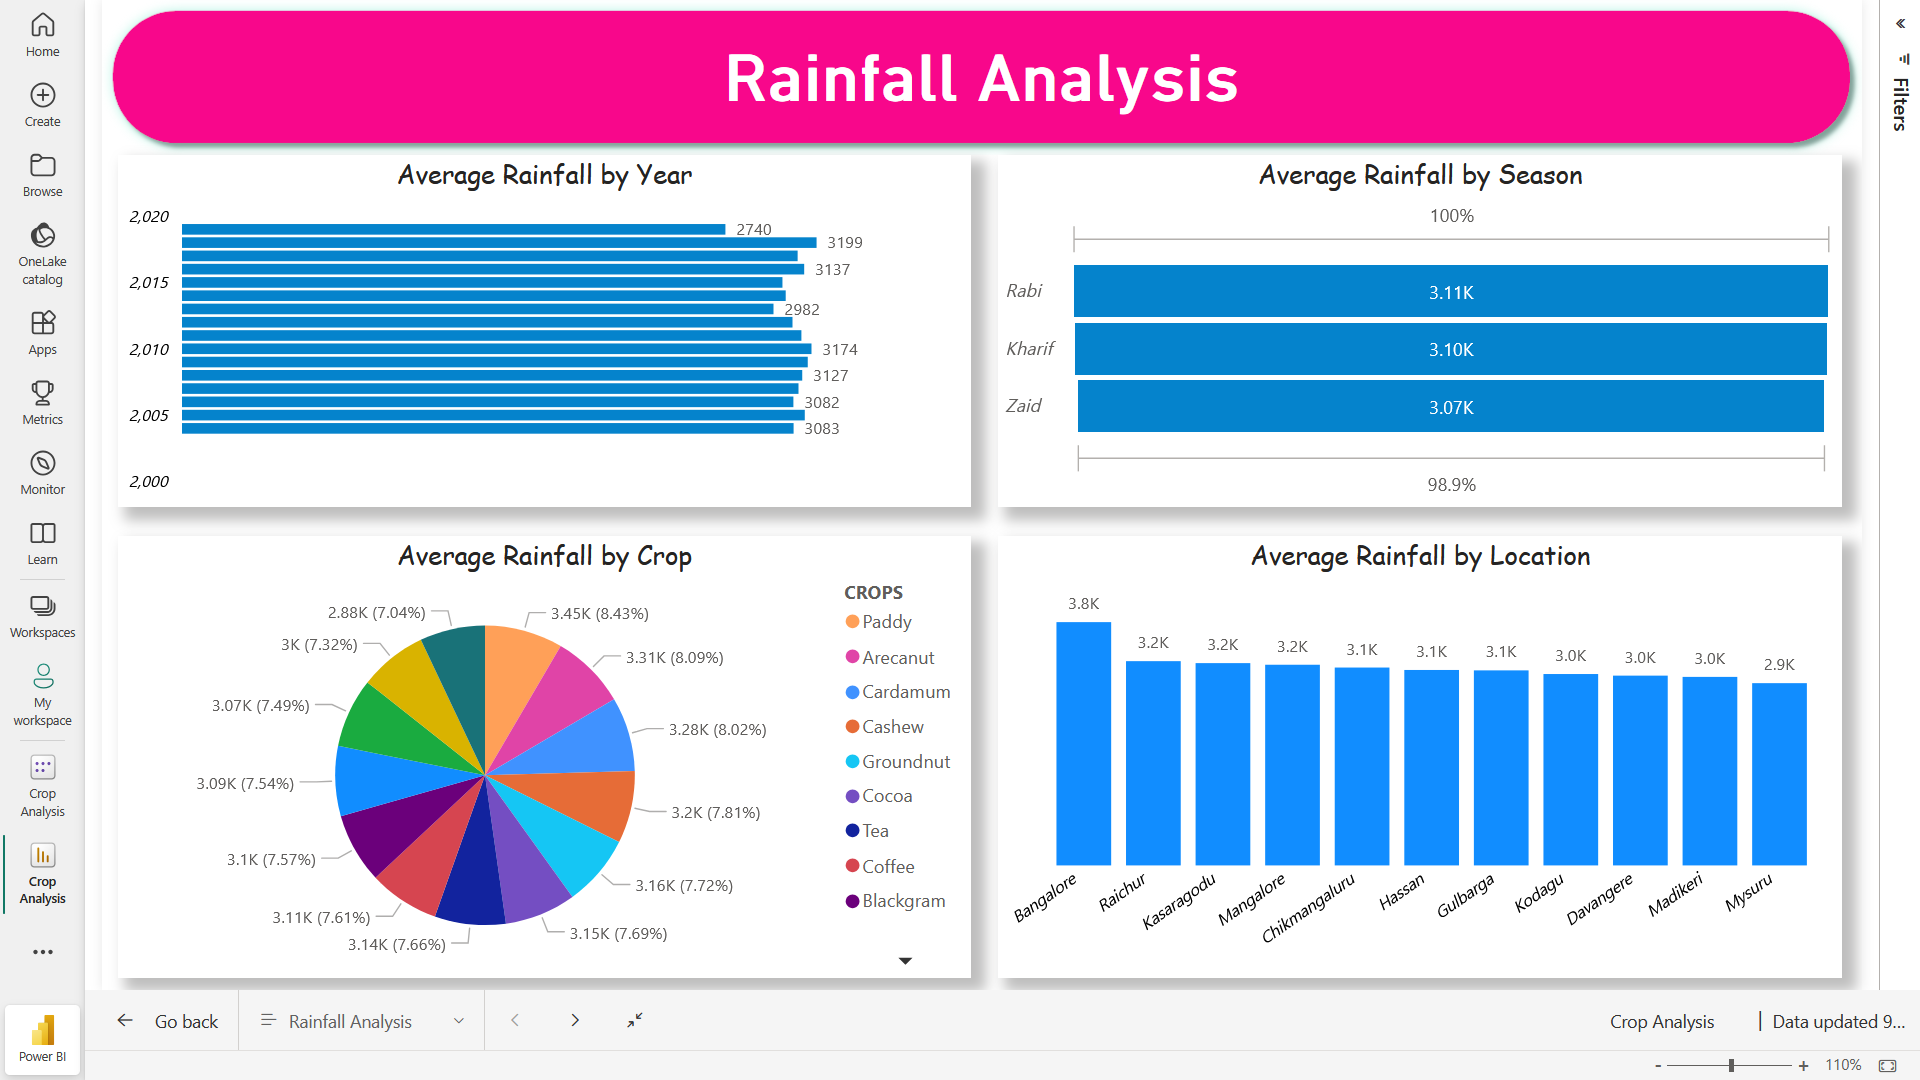

Layout of this report page (visuals, bound fields, positions):
{"tool":"powerbi","page":{"name":"Rainfall Analysis","canvas":[1280,720],"ordinal":0},"visuals":[{"type":"shape","box":[0,0,1279.8,112.7],"z":0},{"type":"barChart","title":"Average Rainfall by Year","fields":{"Y":["Avg(AGRICULTURE.RAINFALL)"],"Category":["AGRICULTURE.YEAR"]},"box":[11.4,112.7,620.2,255.7],"z":1},{"type":"funnel","title":"Average Rainfall by Season","fields":{"Category":["AGRICULTURE.SEASON"],"Y":["Avg(AGRICULTURE.RAINFALL)"]},"box":[651.9,112.7,613.9,255.7],"z":2},{"type":"pieChart","title":"Average Rainfall by Crop","fields":{"Category":["AGRICULTURE.CROPS"],"Y":["Avg(AGRICULTURE.RAINFALL)"]},"box":[11.4,389.9,620.2,321.5],"z":3},{"type":"clusteredColumnChart","title":"Average Rainfall by Location","fields":{"Category":["AGRICULTURE.LOCATION"],"Y":["Avg(AGRICULTURE.RAINFALL)"]},"box":[651.9,389.9,613.9,321.5],"z":4}]}

Visuals, with their boxes on the page's 1280x720 design canvas (x1, y1, x2, y2). These are canvas units, not pixel positions in the 1920x1080 screenshot, which may show the page scaled, cropped or inside an application window:
shape: [left=0, top=0, right=1280, bottom=113]
"Average Rainfall by Year" barChart: [left=11, top=113, right=632, bottom=368]
"Average Rainfall by Season" funnel: [left=652, top=113, right=1266, bottom=368]
"Average Rainfall by Crop" pieChart: [left=11, top=390, right=632, bottom=711]
"Average Rainfall by Location" clusteredColumnChart: [left=652, top=390, right=1266, bottom=711]
